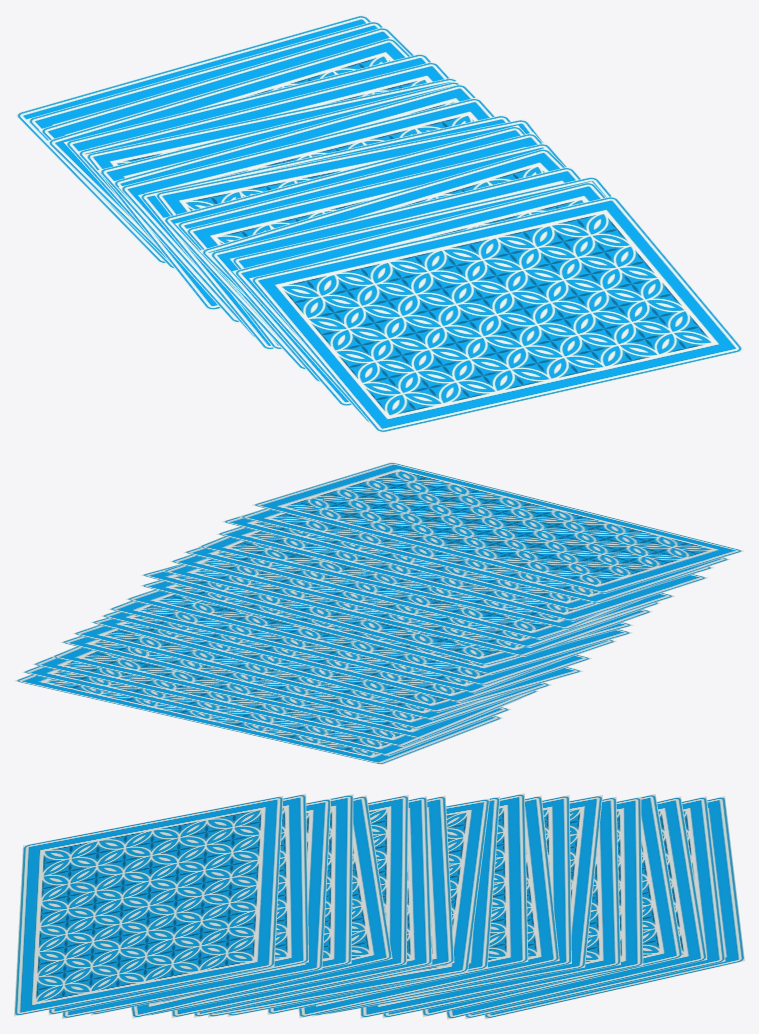
The picture shows the model from 3 angles, top to bottom: view 1: azimuth 30°, elevation 25°; view 2: azimuth 150°, elevation 25°; view 3: azimuth 270°, elevation 25°; orthographic projection. The views are drawn at different scales.
Parts seen in each view (by area): view 1: Cards; view 2: Cards; view 3: Cards.
Part boxes in pixels (x1,y1,x2,y2): Cards: (14,14,744,433); Cards: (14,462,743,764); Cards: (14,793,744,1019).
Size of the model in its own units: 1.59 by 0.2418 by 2.74.
Materials: 1 (1 with a texture image).
